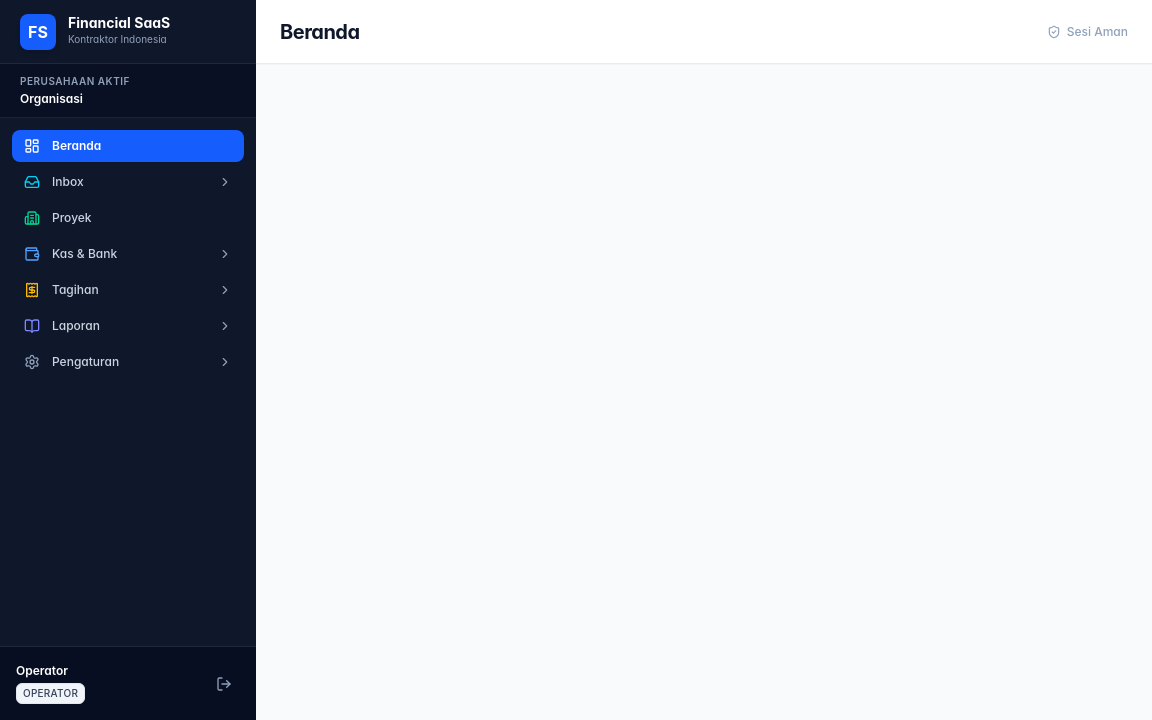
Test: Phase A UI/UX Refinements › Navigation & Layout (AppLayout) › expands accordion groups on demand without losing route links
Click on Tagihan group
Click the button "Tagihan": (128, 290) [12,274,244,306]
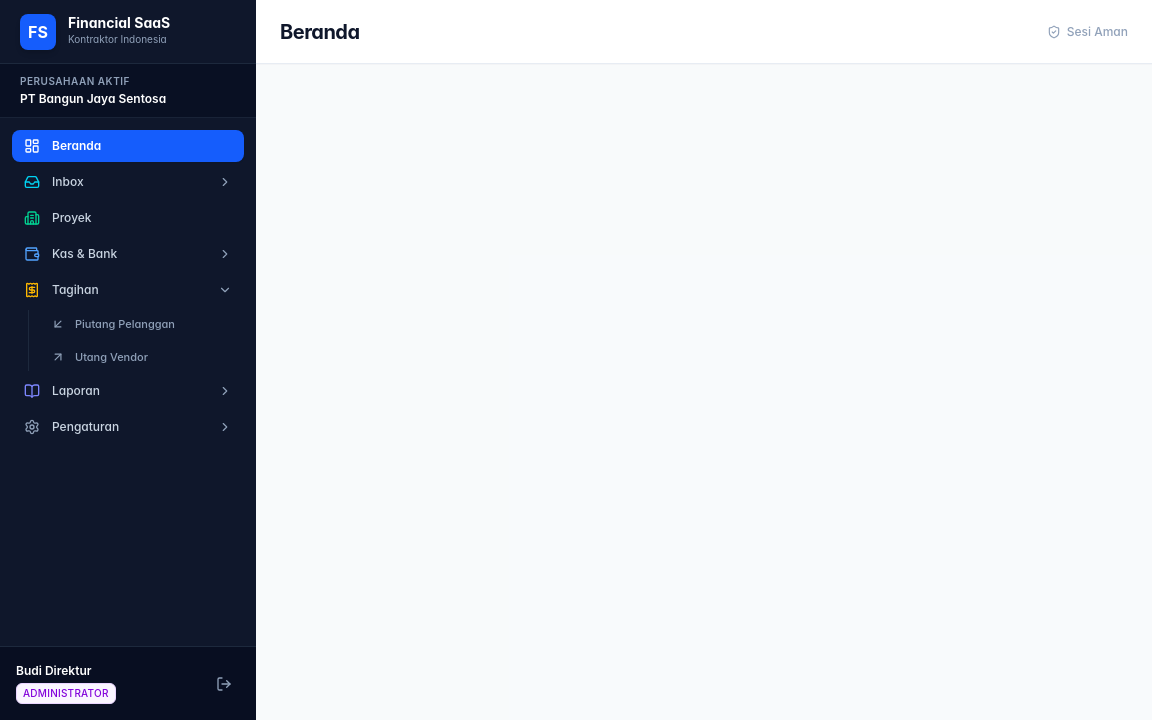
Check: the text "Piutang Pelanggan" is shown, box [75,316,175,332]
Check: the text "Utang Vendor" is shown, box [75,348,148,365]
Click on Kas & Bank group
Click the button "Kas & Bank": (128, 254) [12,238,244,270]
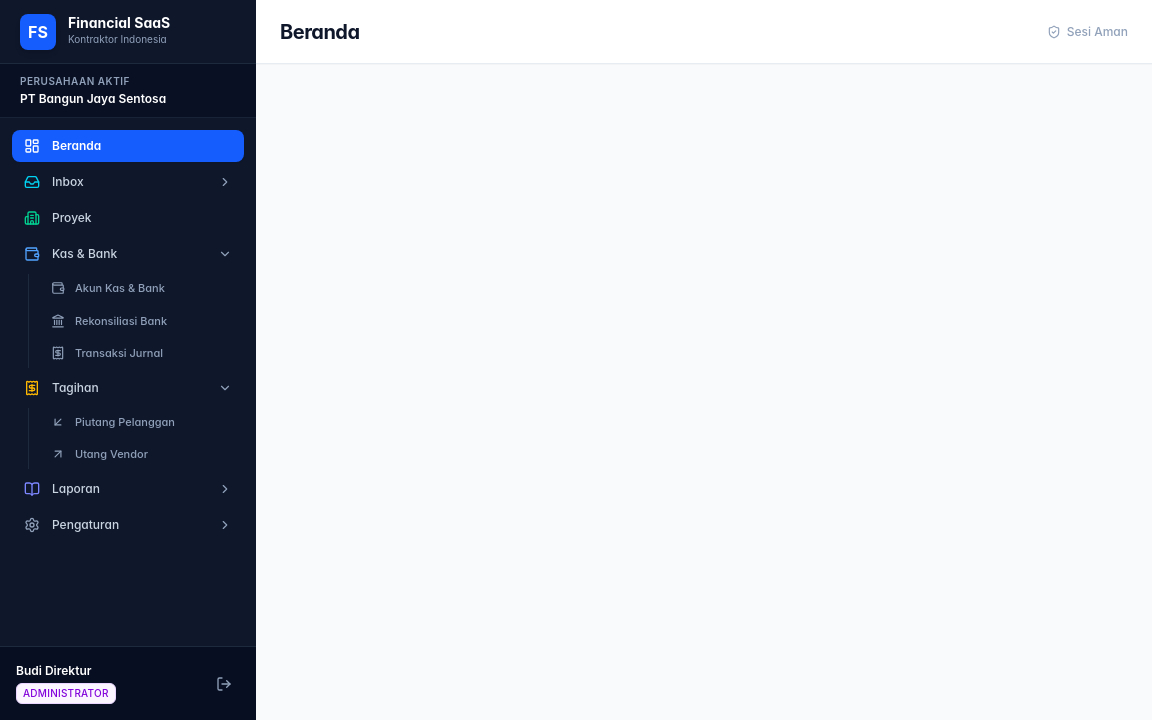
Check: the text "Akun Kas & Bank" is shown, box [75,280,165,296]
Check: the text "Rekonsiliasi Bank" is shown, box [75,312,167,329]
Check: the text "Transaksi Jurnal" is shown, box [75,345,163,362]
